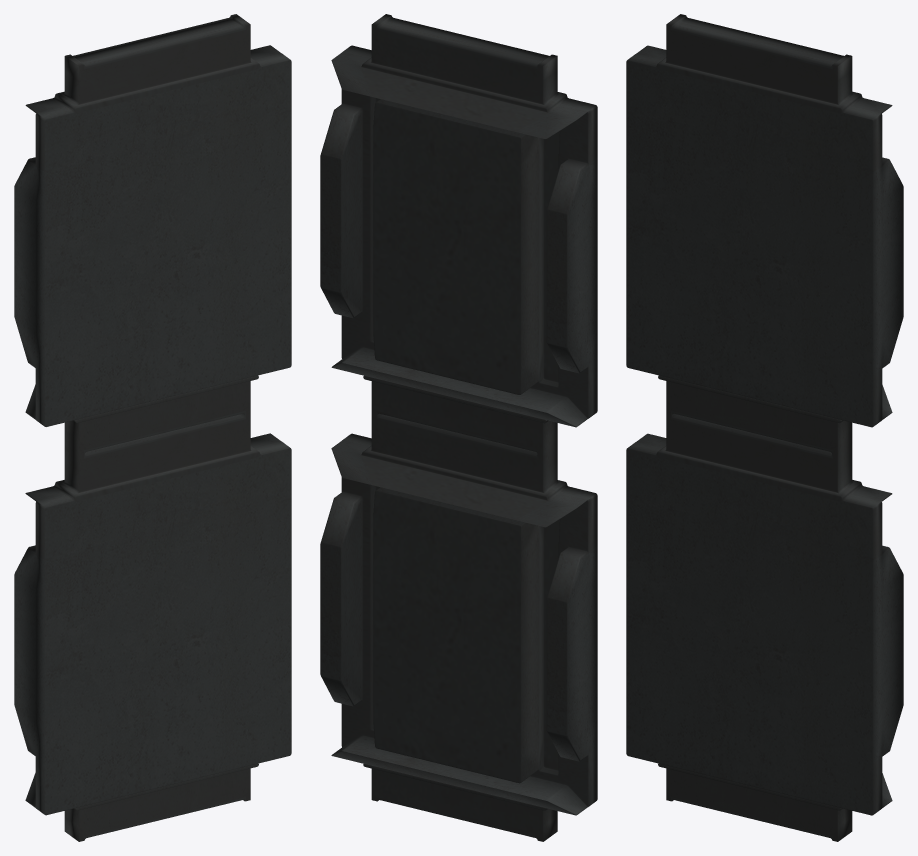
File: VH_TrainBaseSideCabin.fbx
The picture shows the model from 3 angles, left to right: view 1: azimuth 30°, elevation 25°; view 2: azimuth 150°, elevation 25°; view 3: azimuth 330°, elevation 25°; orthographic projection.
Parts seen in each view (by area): view 1: SidePart, JoinElement; view 2: SidePart, JoinElement; view 3: SidePart, JoinElement.
Part boxes in pixels (x1,y1,x2,y2): SidePart: (14,14,291,815); JoinElement: (64,763,258,841); SidePart: (320,14,597,815); JoinElement: (363,764,557,841); SidePart: (626,14,903,815); JoinElement: (658,763,852,841).
Size of the model in its own units: 6.26 by 18.79 by 1.33.
Materials: 1 (1 with a texture image).
